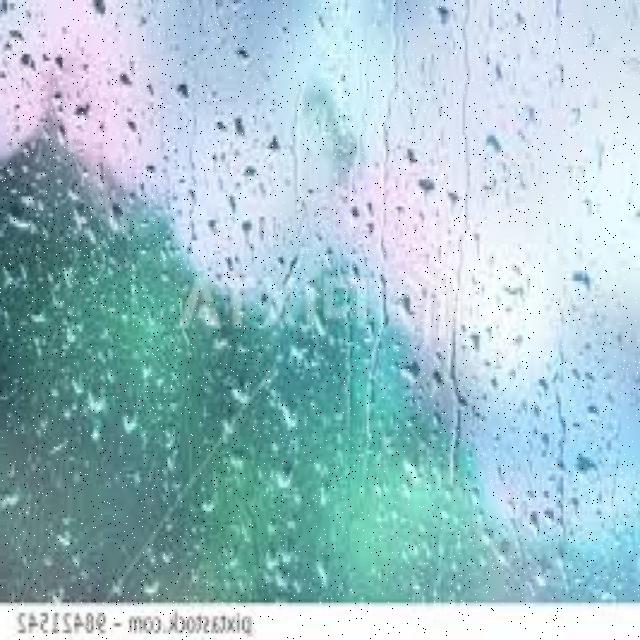raindrop: (384, 354, 430, 394), (562, 260, 596, 308), (111, 398, 144, 447), (272, 382, 304, 430), (386, 282, 416, 330), (77, 378, 111, 420), (194, 478, 224, 524), (574, 444, 600, 494), (521, 502, 546, 552), (478, 122, 504, 170), (274, 453, 304, 493), (227, 42, 259, 78), (227, 370, 254, 412), (411, 166, 438, 203)
